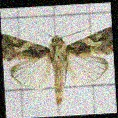Spodoptera litura: (3, 24, 114, 105)
